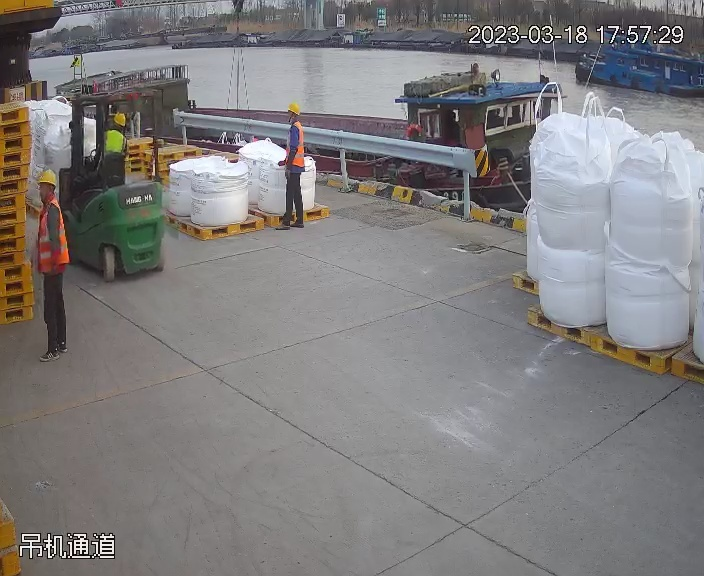head: (32, 168, 64, 229), (101, 110, 129, 150), (284, 98, 305, 143)
helmet: (35, 169, 57, 186), (285, 98, 302, 114), (111, 111, 126, 125)
people: (30, 171, 71, 357), (277, 99, 312, 229)
